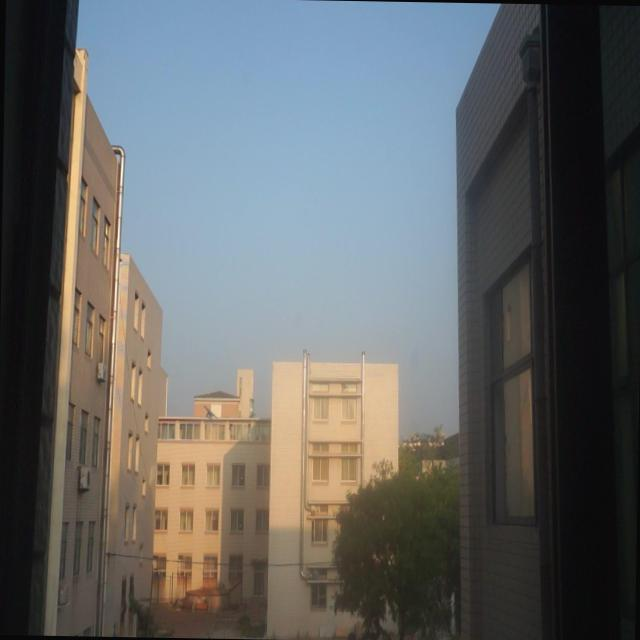drone: (202, 404, 217, 419)
